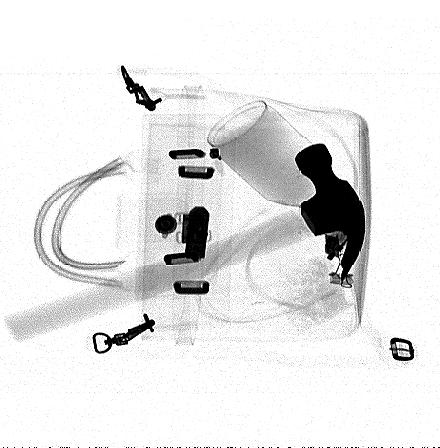Hammer: (2, 143, 366, 344)
